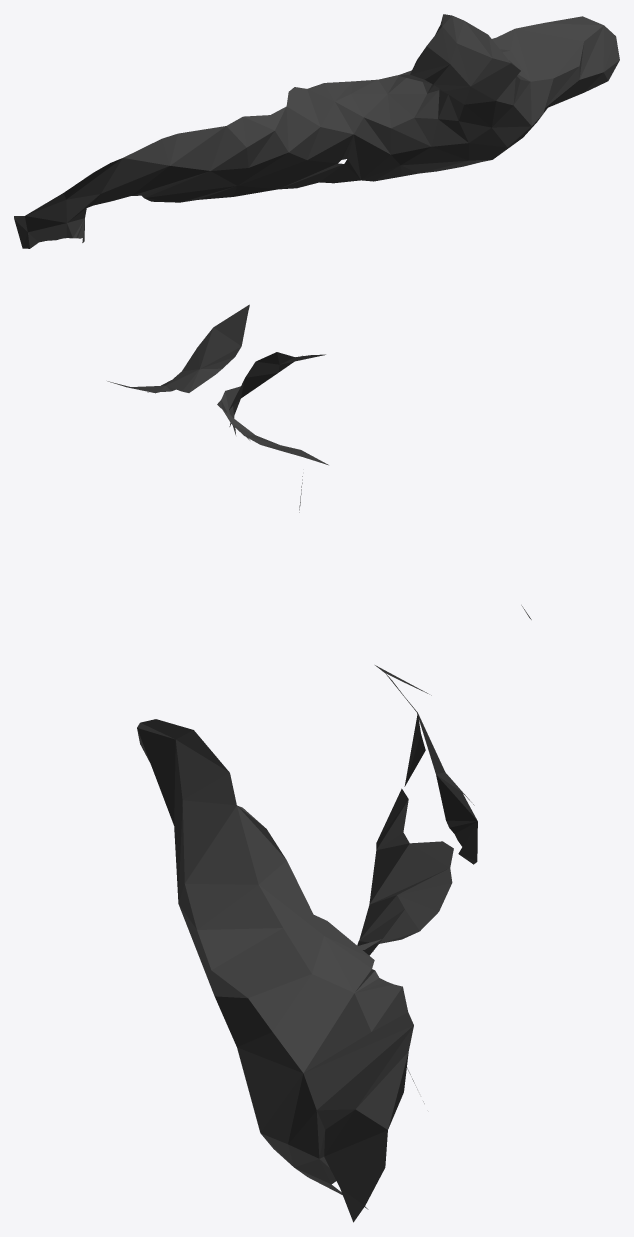
File: A_unused6_Group47418.glb
The picture shows the model from 3 angles, top to bottom: view 1: azimuth 30°, elevation 25°; view 2: azimuth 150°, elevation 25°; view 3: azimuth 270°, elevation 25°; orthographic projection. The views are drawn at different scales.
Visible parts, largest first — view 1: A_unused6_Group47418; view 2: A_unused6_Group47418; view 3: A_unused6_Group47418.
Part boxes in pixels (left/top/right/bottom): A_unused6_Group47418: left=14, top=14, right=619, bottom=248; A_unused6_Group47418: left=107, top=304, right=531, bottom=619; A_unused6_Group47418: left=137, top=665, right=477, bottom=1222.
Bounding box in the file's own units: 0.0137 × 0.00465 × 0.00365.
Materials: 1 (1 with a texture image).
